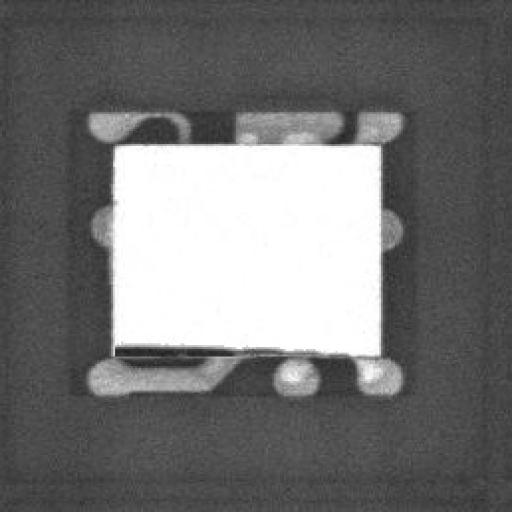DIE_BROKEN: (109, 338, 332, 360)
